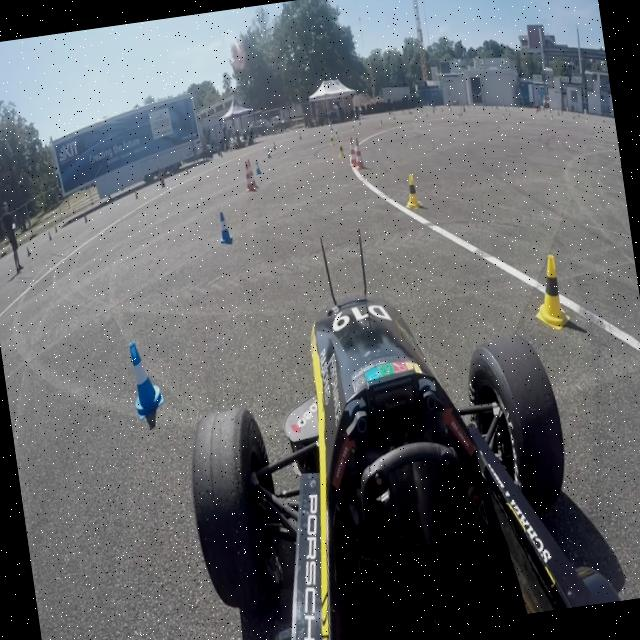blue_cone: (126, 338, 168, 419), (215, 210, 234, 246)
large_orange_cone: (346, 134, 361, 168), (352, 136, 366, 170), (245, 157, 259, 190), (242, 160, 256, 192)
yellow_cone: (528, 252, 571, 333), (401, 172, 423, 212)
